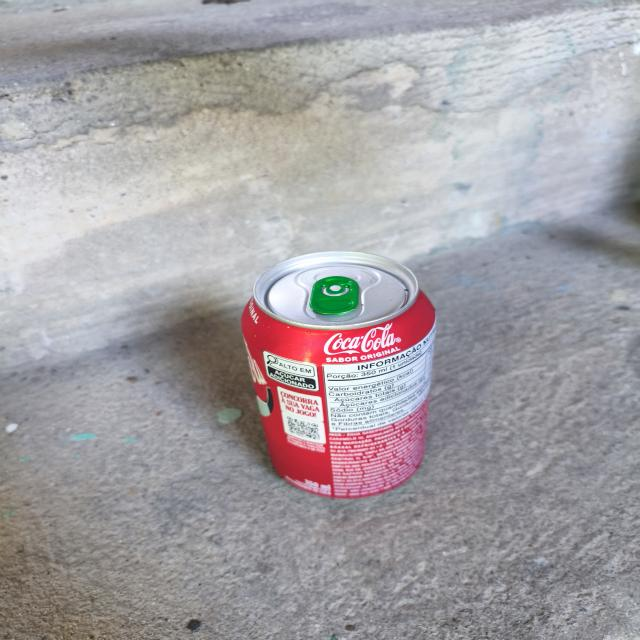Coca Cola: (238, 252, 436, 496)
